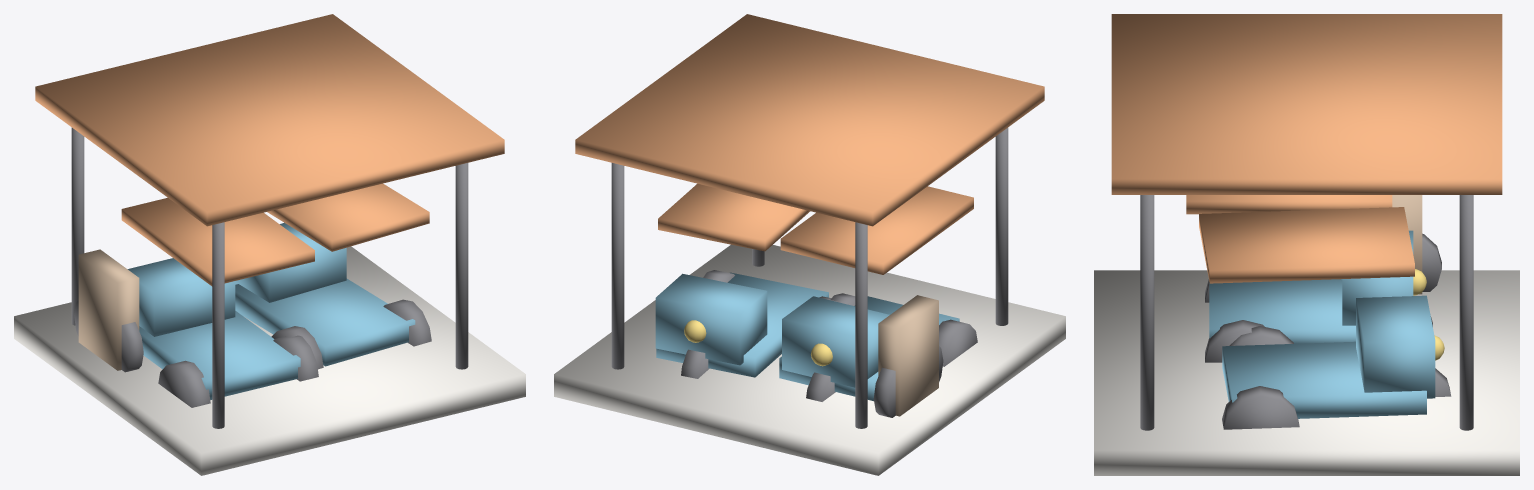
Rendered from tuk_tuk_station_lv2.glb.
3 renders of one model, left to right at view 1: azimuth 30°, elevation 25°; view 2: azimuth 150°, elevation 25°; view 3: azimuth 270°, elevation 25°, orthographic. The views are drawn at different scales.
Visible parts, largest first — view 1: shelter_roof, shelter_deck, tuktuk1_roof, tuktuk2_chassis, tuktuk1_chassis, tuktuk2_roof, tire_rack, tuktuk1_hood, tuktuk2_hood, col_rr, col_rl, col_fl (+5 smaller); view 2: shelter_roof, shelter_deck, tuktuk1_roof, tuktuk2_hood, tuktuk2_roof, tuktuk1_hood, tire_rack, tuktuk2_chassis, col_fr, col_rl, col_fl, tuktuk1_chassis (+4 smaller); view 3: shelter_roof, shelter_deck, tuktuk2_roof, tuktuk2_chassis, tuktuk2_hood, tuktuk1_chassis, col_fr, col_rr, tuktuk1_roof, tuktuk2_w_br, tuktuk1_hood, tire_rack (+3 smaller).
Boxes of the visible parts, x1,y1,x2,y2 form: shelter_roof: [35, 14, 504, 226]; shelter_deck: [14, 246, 525, 475]; tuktuk1_roof: [121, 197, 314, 286]; tuktuk2_chassis: [235, 278, 415, 366]; tuktuk1_chassis: [139, 311, 300, 399]; tuktuk2_roof: [267, 183, 429, 251]; tire_rack: [78, 249, 139, 370]; tuktuk1_hood: [127, 258, 235, 336]; tuktuk2_hood: [235, 222, 346, 302]; col_rr: [455, 163, 468, 369]; col_rl: [212, 222, 224, 428]; col_fl: [71, 127, 84, 325]; shelter_roof: [575, 14, 1044, 226]; shelter_deck: [554, 244, 1065, 475]; tuktuk1_roof: [780, 186, 973, 274]; tuktuk2_hood: [655, 273, 767, 365]; tuktuk2_roof: [658, 183, 810, 251]; tuktuk1_hood: [782, 296, 889, 387]; tire_rack: [878, 295, 938, 416]; tuktuk2_chassis: [656, 272, 828, 377]; col_fr: [611, 163, 624, 369]; col_rl: [995, 127, 1008, 325]; col_fl: [855, 222, 867, 428]; tuktuk1_chassis: [779, 296, 959, 401]; shelter_roof: [1111, 14, 1502, 194]; shelter_deck: [1094, 270, 1519, 475]; tuktuk2_roof: [1199, 207, 1414, 283]; tuktuk2_chassis: [1222, 341, 1426, 418]; tuktuk2_hood: [1356, 295, 1435, 398]; tuktuk1_chassis: [1209, 279, 1355, 343]; col_fr: [1459, 195, 1473, 430]; col_rr: [1140, 195, 1154, 430]; tuktuk1_roof: [1186, 195, 1392, 214]; tuktuk2_w_br: [1222, 386, 1299, 429]; tuktuk1_hood: [1342, 230, 1413, 325]; tire_rack: [1392, 195, 1422, 294].
Bounding box in the file's own units: 1.2 × 0.94 × 1.2.
